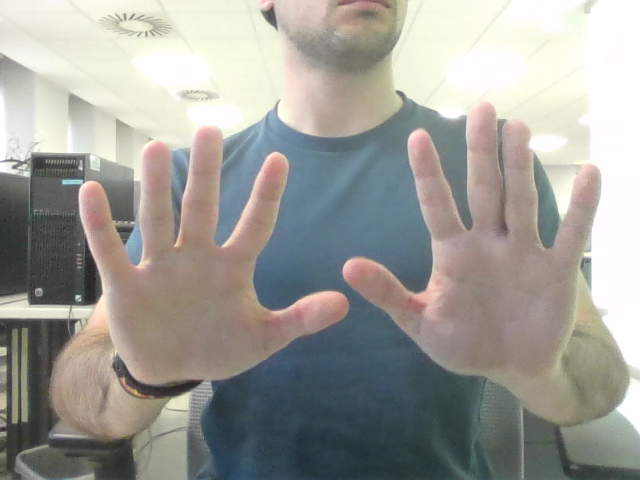Manos Arriba: (114, 130, 565, 348)
